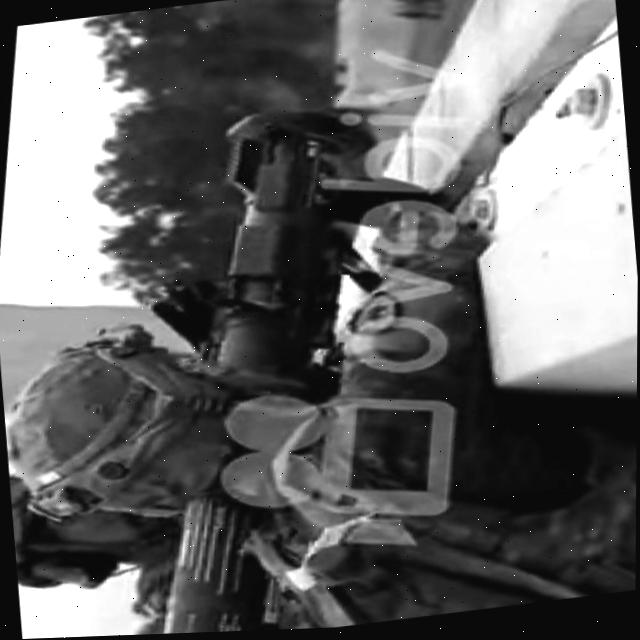rocket: (115, 89, 420, 637)
